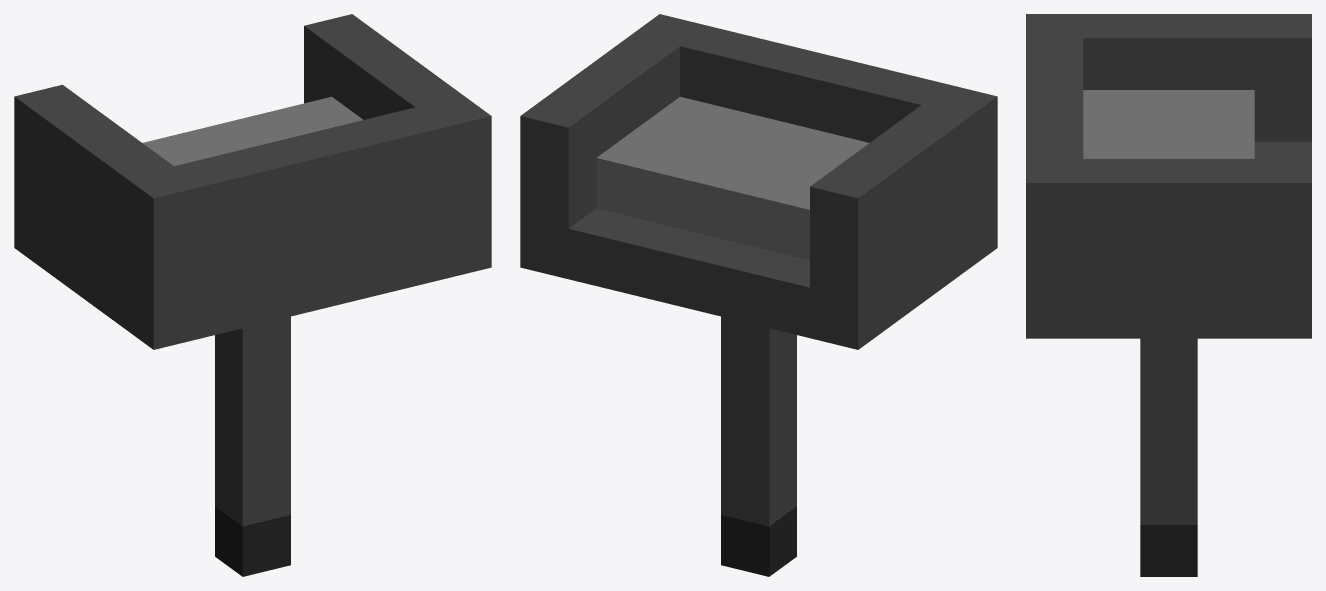
The model's file is obj_grill.dae.
The picture shows the model from 3 angles, left to right: view 1: azimuth 30°, elevation 25°; view 2: azimuth 150°, elevation 25°; view 3: azimuth 270°, elevation 25°; orthographic projection. The views are drawn at different scales.
Visible parts, largest first — view 1: obj_grill; view 2: obj_grill; view 3: obj_grill.
Boxes of the visible parts, x1,y1,x2,y2 form: obj_grill: (14,14,491,576); obj_grill: (520,14,997,576); obj_grill: (1026,14,1311,576).
Bounding box in the file's own units: 0.7 × 0.5 × 0.9.
